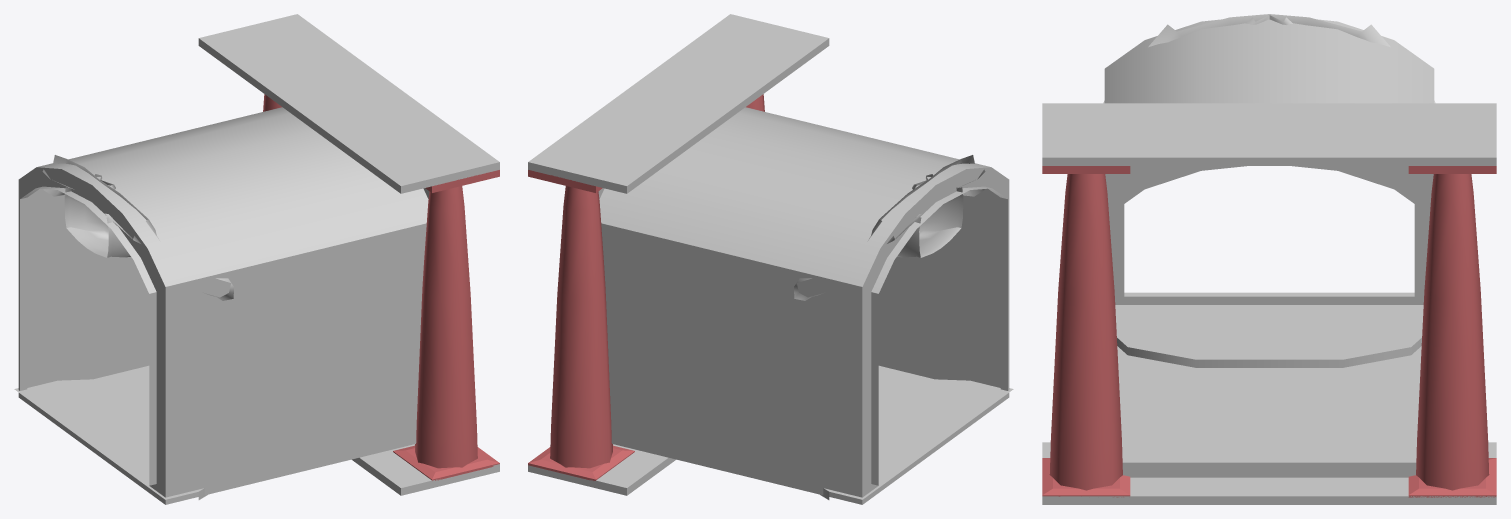
The model's file is Greek Exit 01.fbx.
3 views of the same model, side by side, from view 1: azimuth 30°, elevation 25°; view 2: azimuth 150°, elevation 25°; view 3: azimuth 270°, elevation 25° (orthographic). The views are drawn at different scales.
Parts seen in each view (by area): view 1: Exit; view 2: Exit; view 3: Exit.
Boxes of the visible parts, x1,y1,x2,y2 form: Exit: [14, 14, 499, 504]; Exit: [528, 14, 1013, 504]; Exit: [1042, 14, 1496, 504].
Size of what is drawn, in the model's own units: 556 by 524 by 620.
